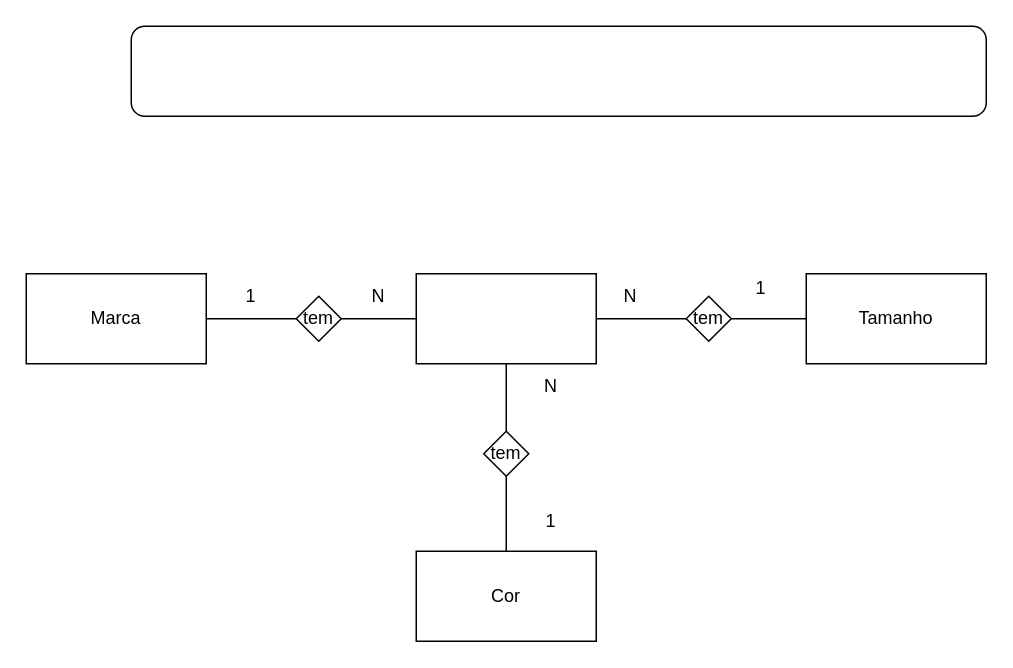
Image size: 1013x668. Some labels were removed from this diagram. The centre of each missing label's shape, as x and y in pixels:
"Camiseta" belongs at (505,318).
"Modelagem_Conceitual" belongs at (558,70).
